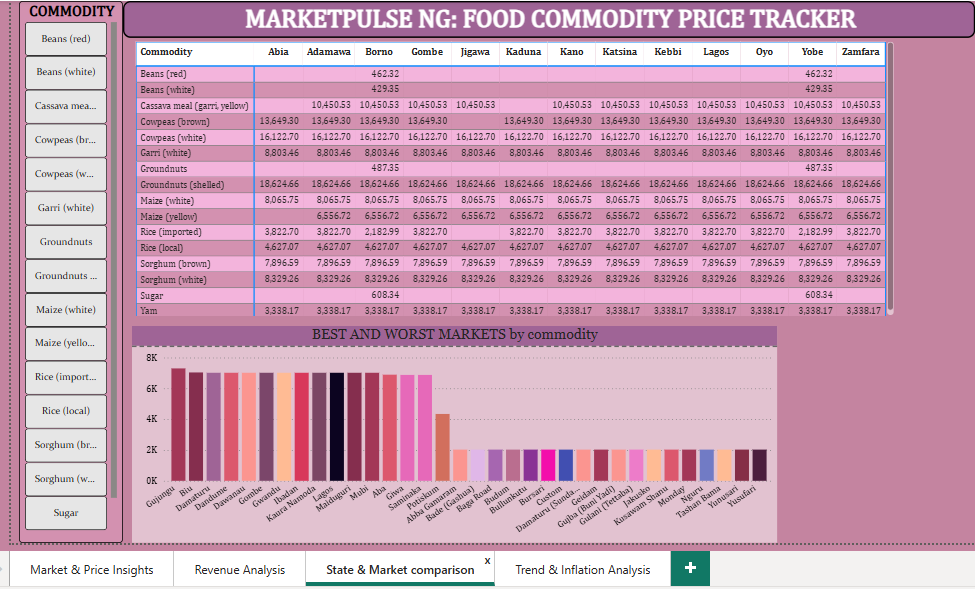

Layout of this report page (visuals, bound fields, positions):
{"tool":"powerbi","page":{"name":"State & Market comparison","canvas":[1280,720],"ordinal":2},"visuals":[{"type":"pivotTable","fields":{"Values":["Price.Average price"],"Rows":["Price.Commodity"],"Columns":["Region.State"]},"box":[161,49.5,1017.1,373],"z":0},{"type":"textbox","title":"MARKETPULSE NG:  FOOD COMMODITY PRICE TRACKER ","box":[148.8,0,1131.8,49.2],"z":1000},{"type":"advancedSlicerVisual","title":"COMMODITY","fields":{"Values":["Commodity.Commodity"]},"box":[10,0,138.2,720],"z":3000},{"type":"clusteredColumnChart","title":"BEST AND WORST MARKETS by  commodity","fields":{"Category":["Region.Market"],"Y":["Region.Avg Market price"]},"box":[161,432.2,857.5,287.7],"z":4000}]}

Visuals, with their boxes on the page's 1280x720 design canvas (x1, y1, x2, y2). These are canvas units, not pixel positions in the 975x589 screenshot, which may show the page scaled, cropped or inside an application window:
pivotTable - Price.Average price x Price.Commodity: (161, 50, 1178, 422)
"MARKETPULSE NG:  FOOD COMMODITY PRICE TRACKER " textbox: (149, 0, 1281, 49)
"COMMODITY" advancedSlicerVisual: (10, 0, 148, 720)
"BEST AND WORST MARKETS by  commodity" clusteredColumnChart: (161, 432, 1018, 720)
